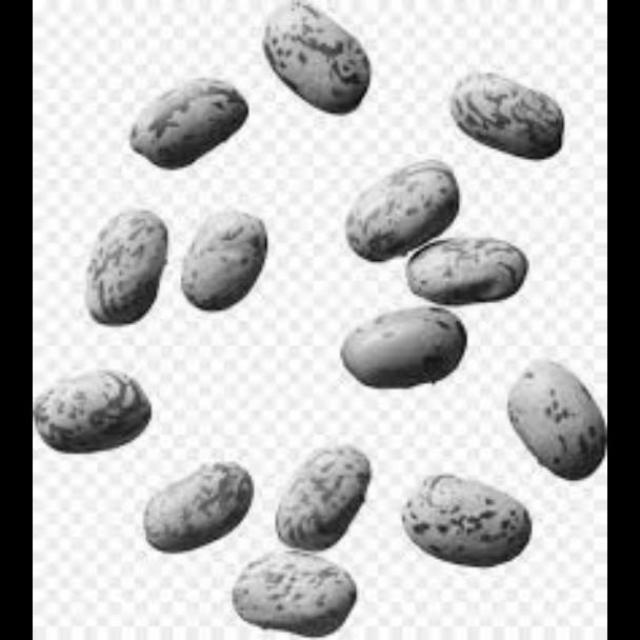dau van: (235, 0, 382, 145), (419, 62, 606, 164), (406, 448, 548, 577), (488, 343, 606, 478), (314, 156, 469, 256), (218, 534, 363, 639), (126, 446, 255, 558), (278, 418, 376, 559), (31, 350, 158, 458), (68, 190, 165, 328), (318, 298, 463, 386), (120, 65, 260, 152), (175, 203, 269, 330), (401, 218, 530, 300)
